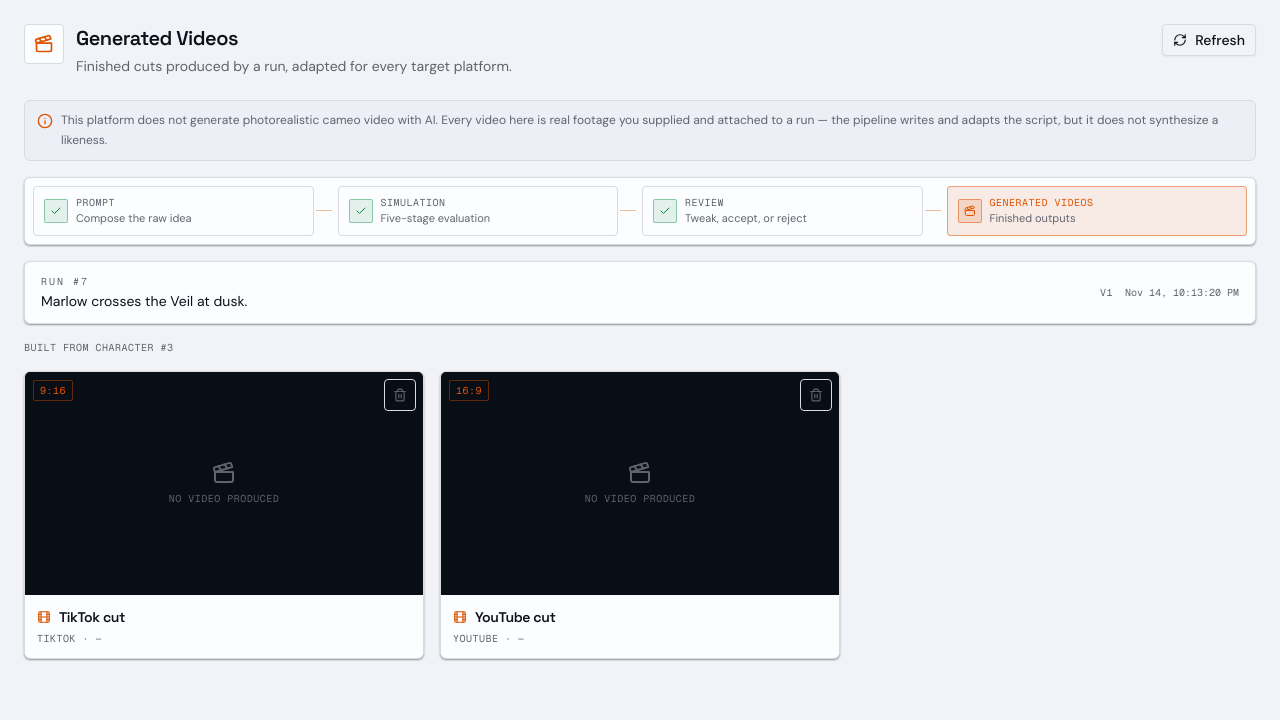
Test: GeneratedVideosPage › returns from the detail view to the video grid
Click the button with test id "videos.item.1" at coordinates (224, 515), box [24,370,424,659]
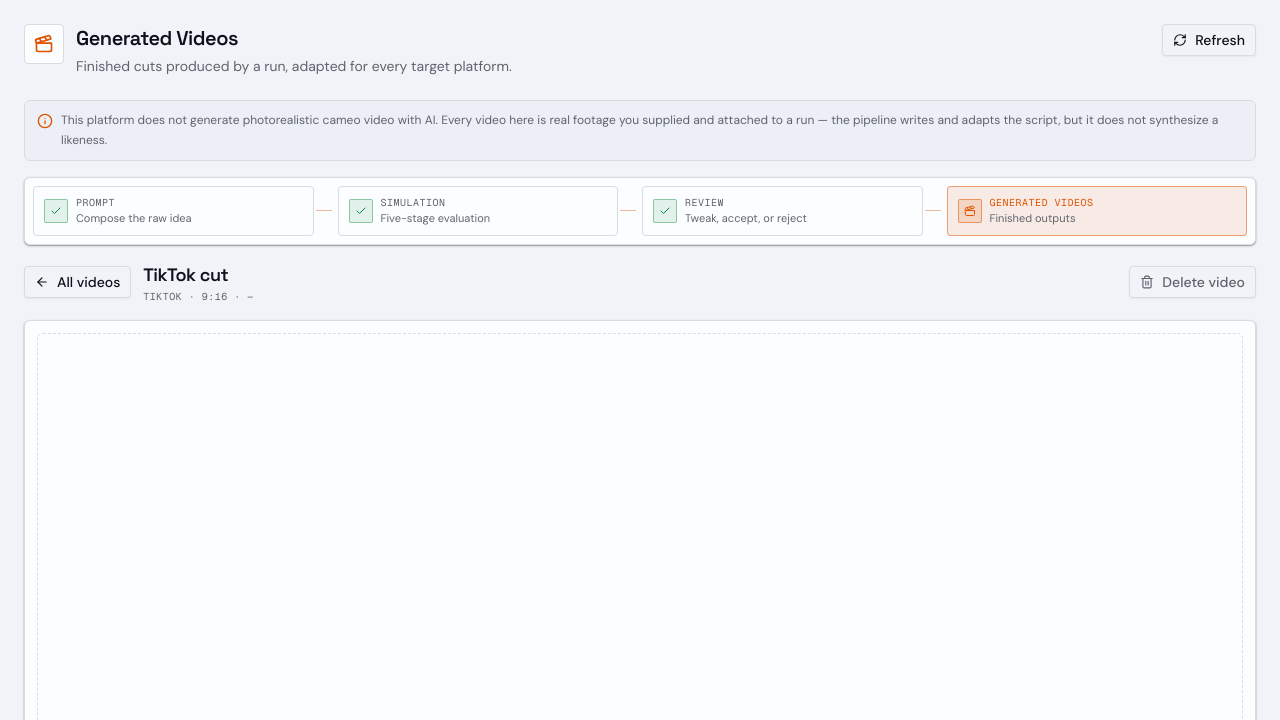
Click the button with test id "videos.detail.back_button" at coordinates (78, 282), box [24,266,131,298]
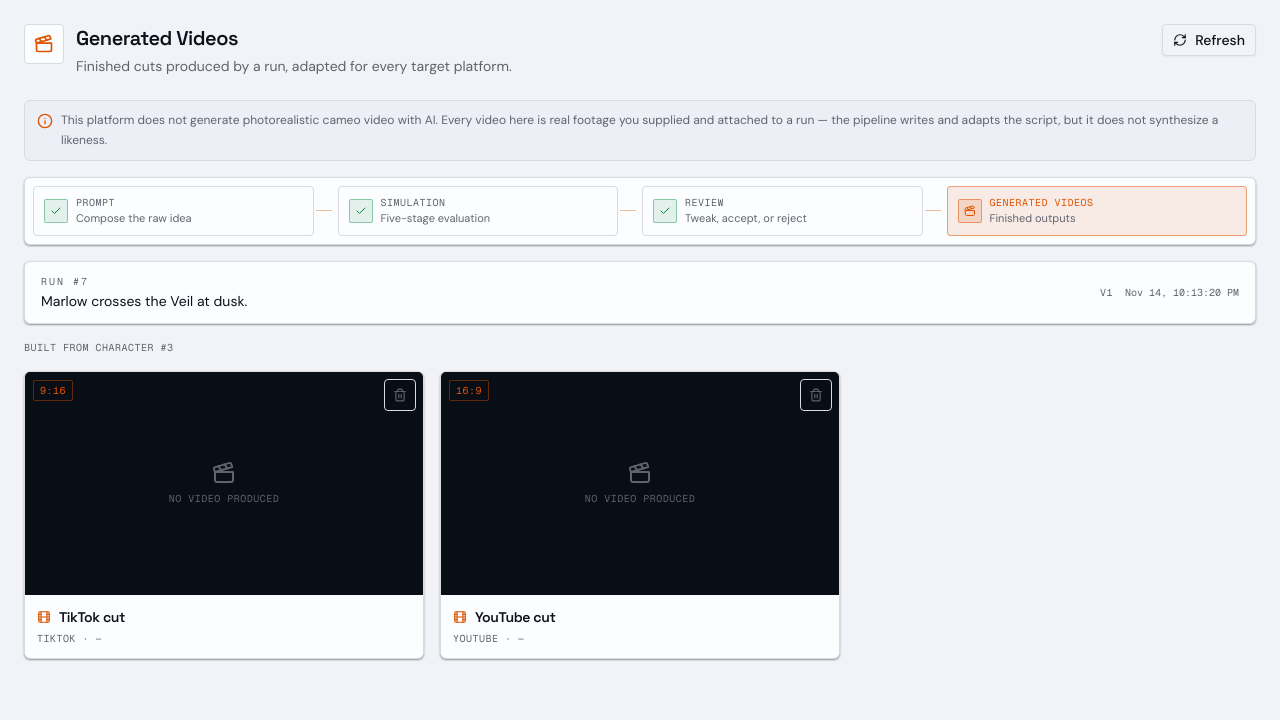
Expected: the list with test id "videos.list" is shown, [24,370,840,659]
